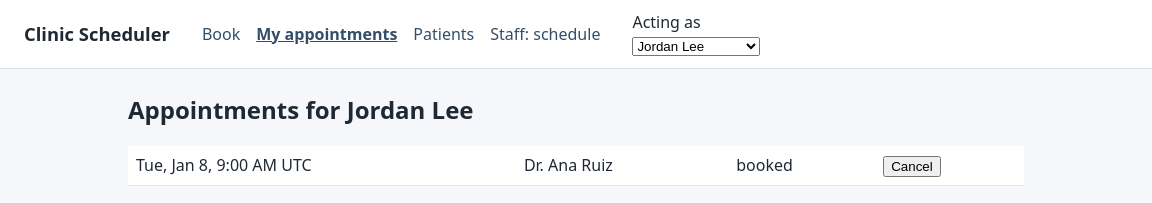
Test: AppointmentsPage › lists the current patient's appointments and cancels one
Expected: the cell with test id "appointment-status-apt_1" reads "booked", [736,154,793,176]
Click the button with test id "appointment-cancel-apt_1": click(912, 166) [883,156,941,177]
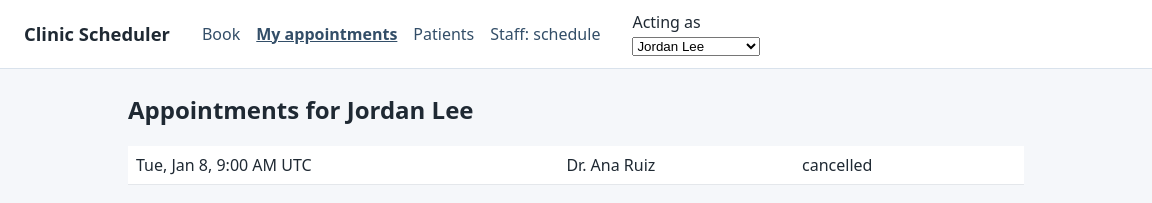
Expected: the text "cancelled" is shown, [794,146,988,184]
Expected: the button with test id "appointment-cancel-apt_1" is gone
